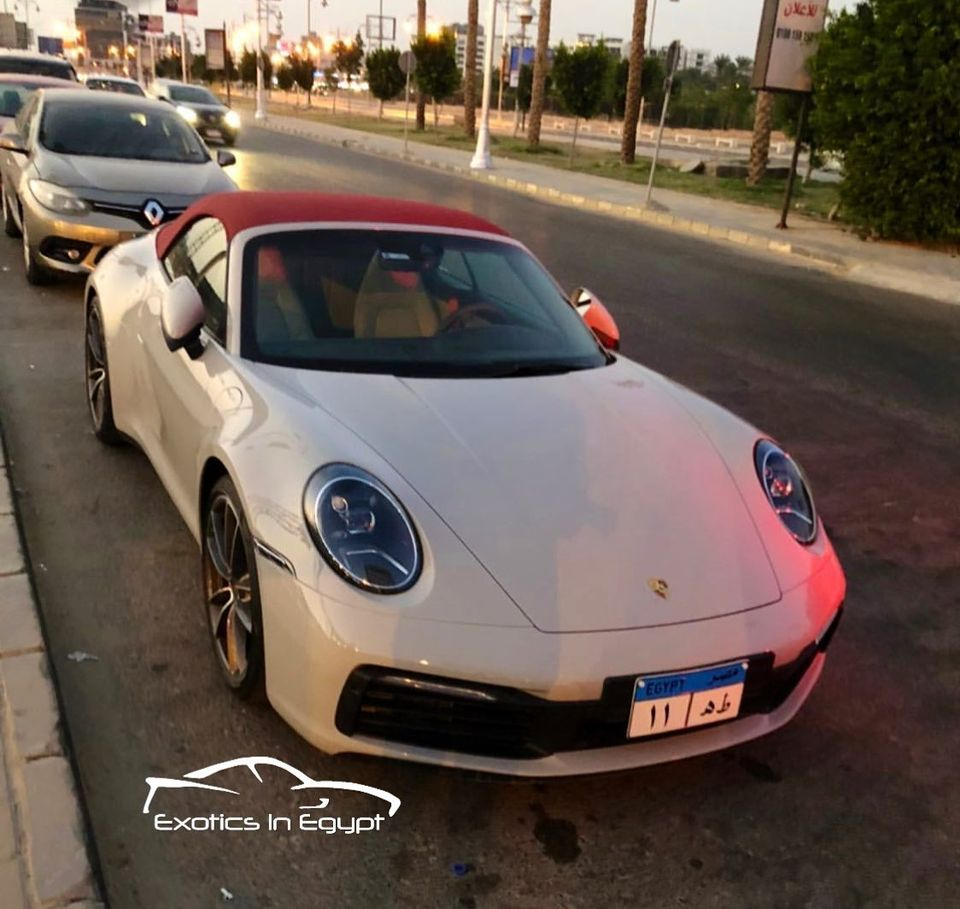carpl: (630, 675, 747, 737)
